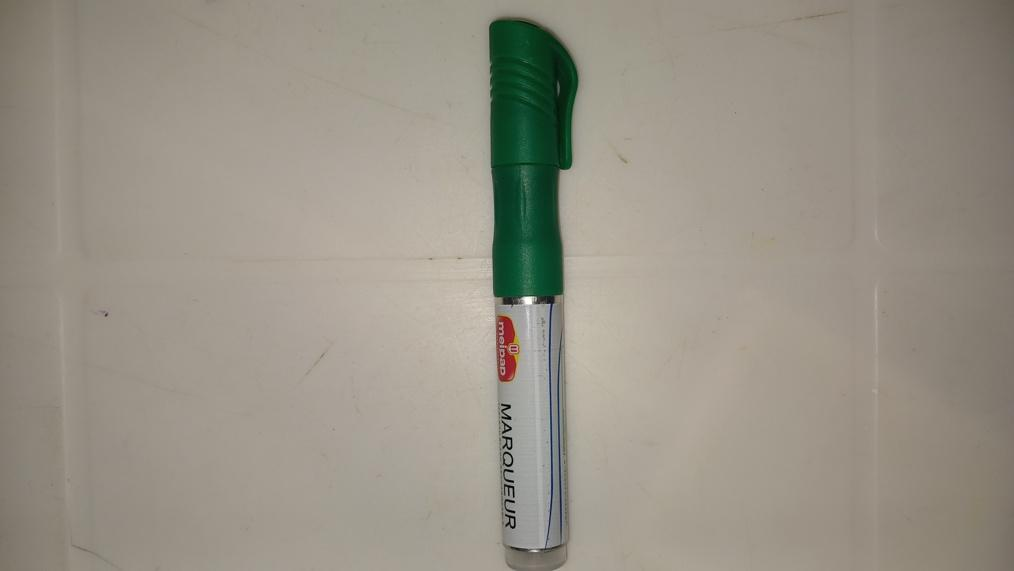Whiteboard marker: (492, 11, 573, 571)
